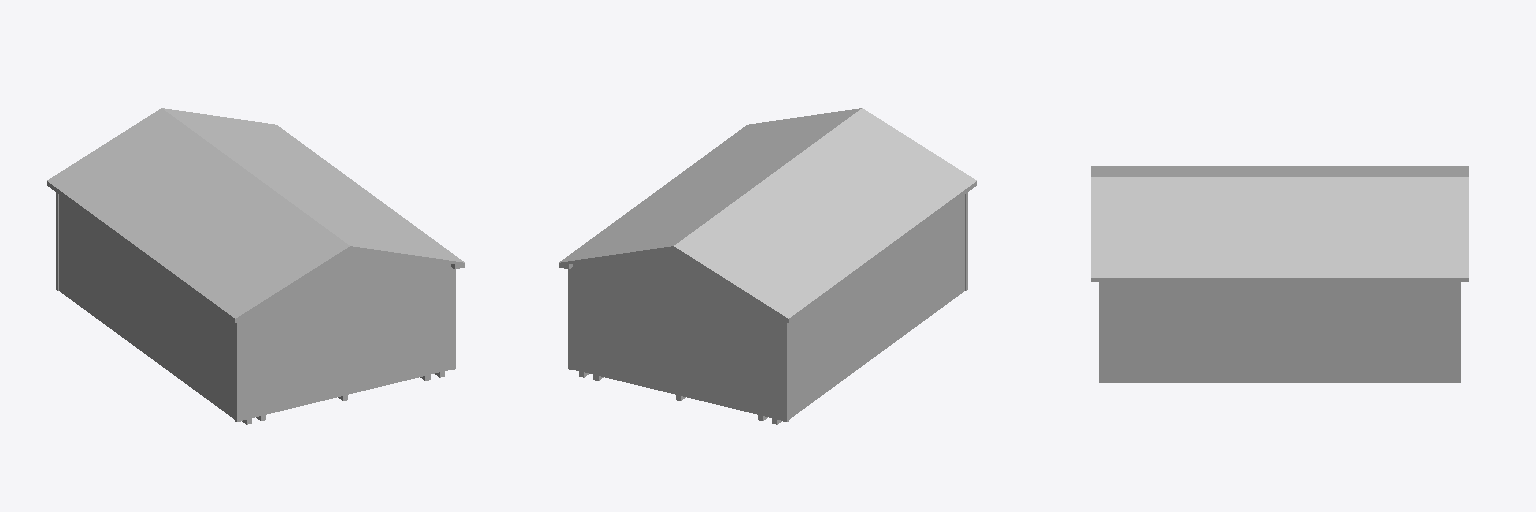
File: Classic A-Frame_14x20.obj
3 renders of one model, left to right at view 1: azimuth 30°, elevation 25°; view 2: azimuth 150°, elevation 25°; view 3: azimuth 270°, elevation 25°, orthographic.
Visible parts, largest first — view 1: Classic A-Frame_14x20.obj; view 2: Classic A-Frame_14x20.obj; view 3: Classic A-Frame_14x20.obj.
Boxes of the visible parts, x1,y1,x2,y2 form: Classic A-Frame_14x20.obj: [47, 108, 464, 424]; Classic A-Frame_14x20.obj: [559, 108, 976, 424]; Classic A-Frame_14x20.obj: [1091, 166, 1468, 382].
Size of the model in its own units: 4.5 by 2.96 by 6.4.